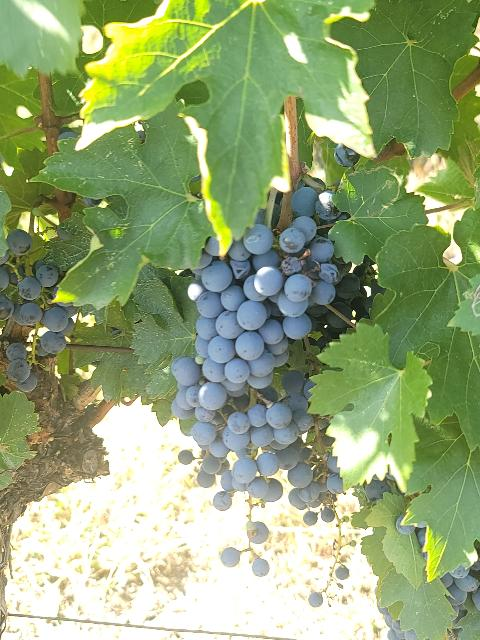grapes: (171, 186, 341, 410), (192, 392, 315, 510), (0, 261, 74, 358), (5, 340, 39, 394), (4, 229, 32, 260), (246, 520, 269, 544), (251, 551, 270, 576)
